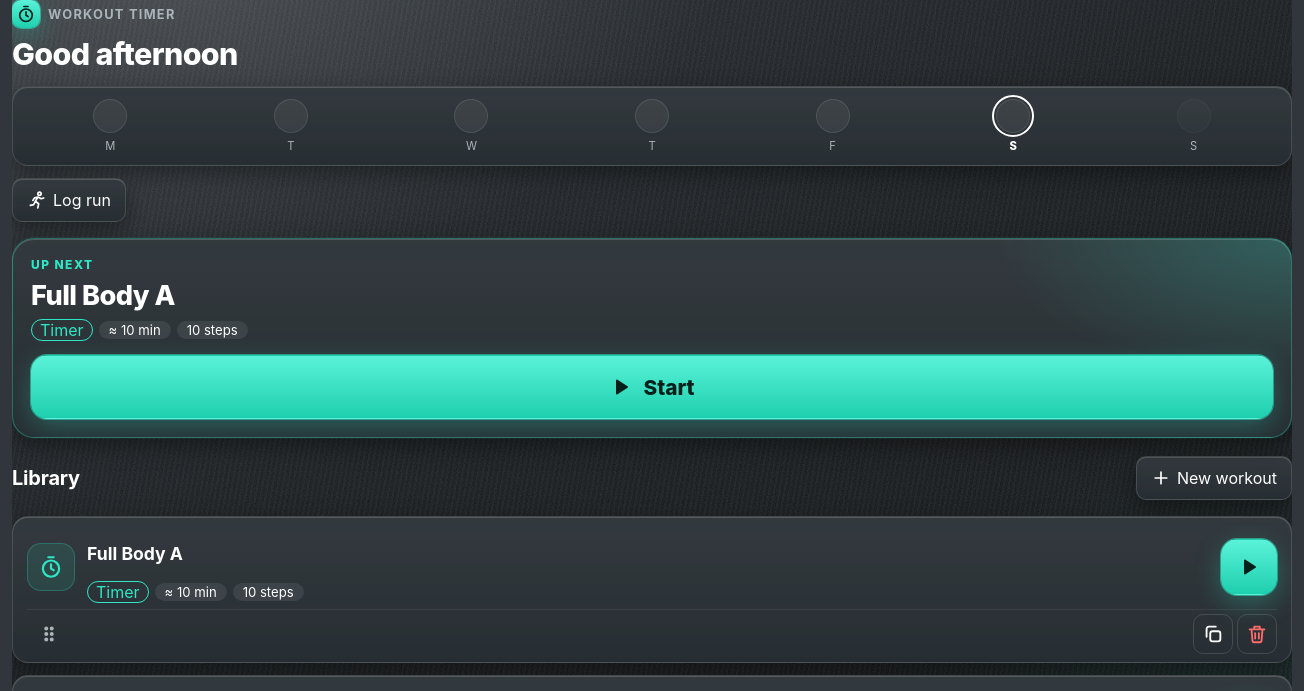
Test: Log run › shows a confirmation with Undo, and Undo takes the run back out
The width and height of the screenshot is (1304, 691).
Click the button "Log run" at (69, 200), box 12,178 -> 126,222
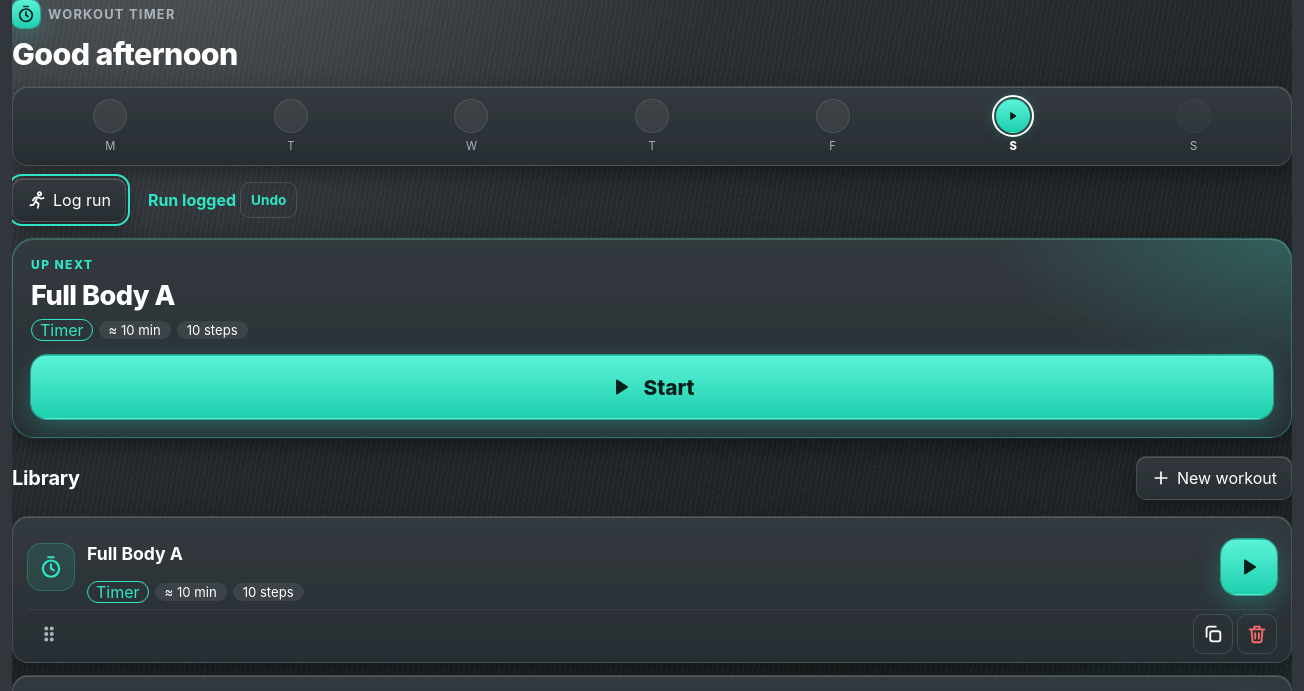
Now the text "Run logged" is shown, box 148,190 -> 236,210
Click the button "Undo" at (269, 200), box 240,182 -> 297,218
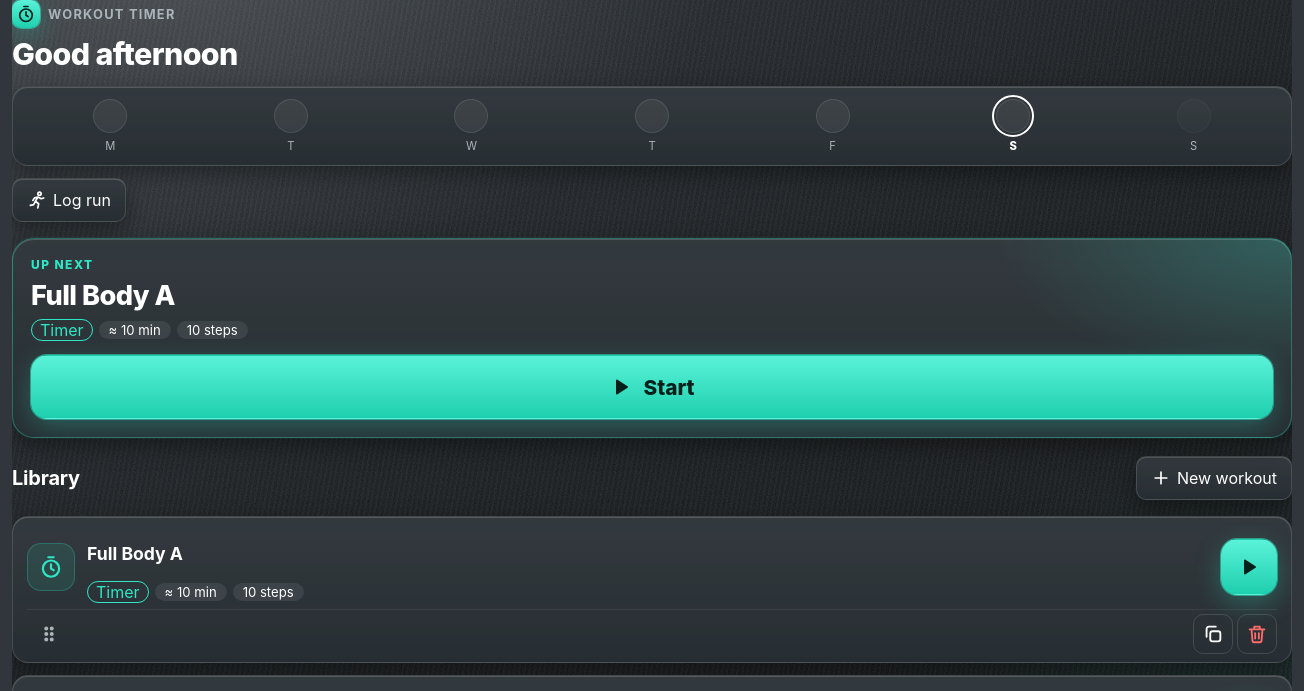
Now the text "Run logged" is gone
